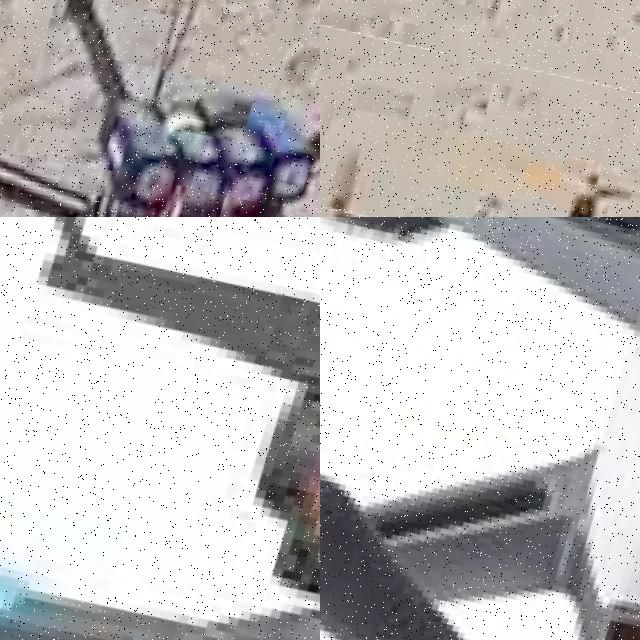drone: (0, 217, 320, 640), (320, 217, 640, 640), (0, 0, 320, 217), (320, 30, 640, 217)
